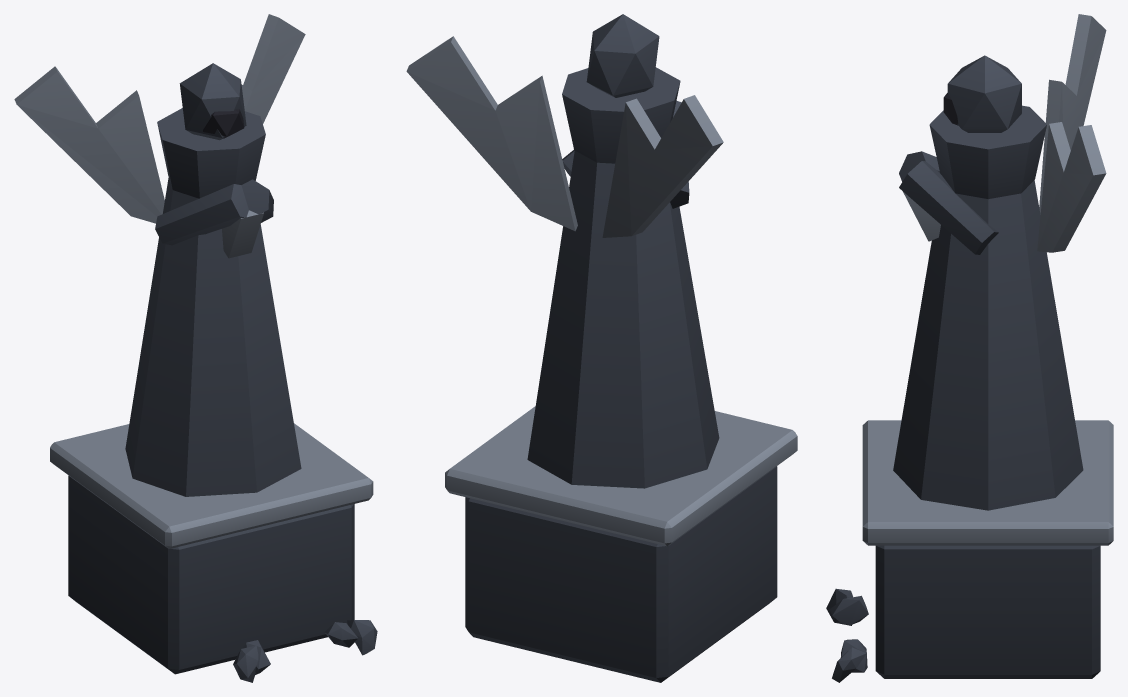
The model's file is saint_statue.glb.
The picture shows the model from 3 angles, left to right: view 1: azimuth 30°, elevation 25°; view 2: azimuth 150°, elevation 25°; view 3: azimuth 270°, elevation 25°; orthographic projection. The views are drawn at different scales.
Parts seen in each view (by area): view 1: saint_statue_mesh; view 2: saint_statue_mesh; view 3: saint_statue_mesh.
Boxes of the visible parts, x1,y1,x2,y2 form: saint_statue_mesh: [14, 14, 377, 682]; saint_statue_mesh: [406, 14, 797, 682]; saint_statue_mesh: [826, 14, 1113, 682].
Bounding box in the file's own units: 2.01 × 3.74 × 1.66.
